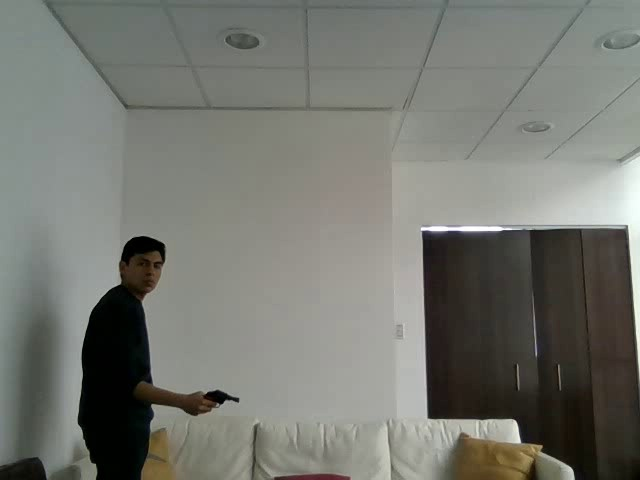pistola: (202, 378, 245, 413)
